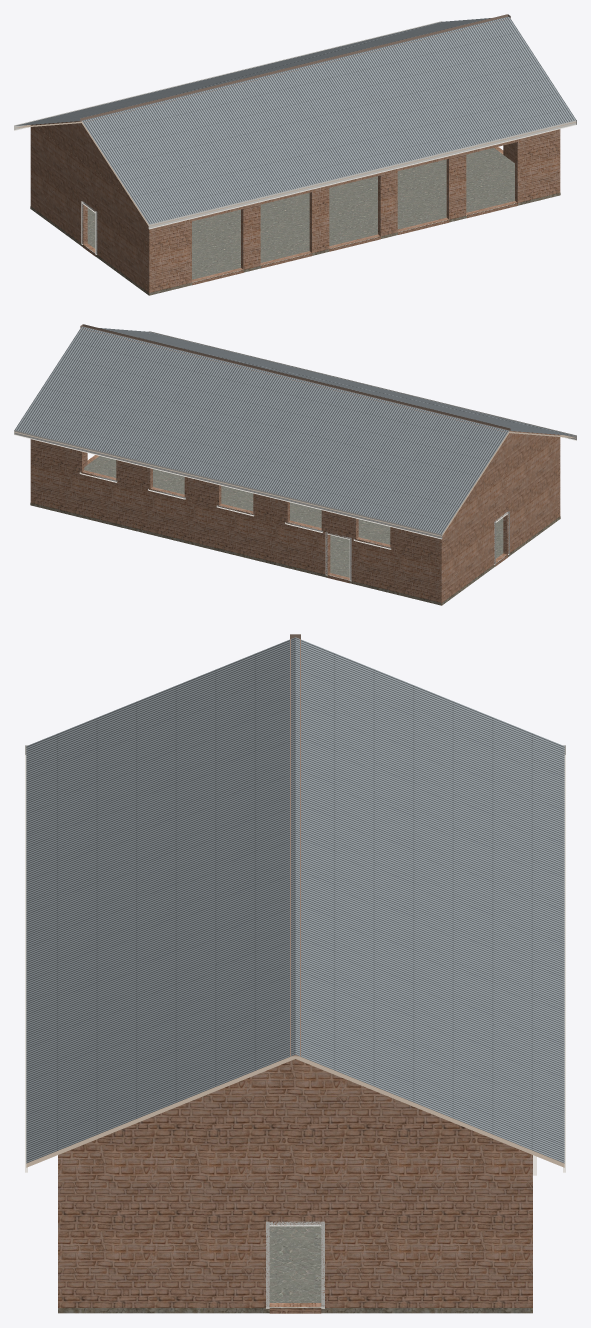
The model's file is fish-market.windows-v1.lod0.glb.
3 renders of one model, top to bottom at view 1: azimuth 30°, elevation 25°; view 2: azimuth 150°, elevation 25°; view 3: azimuth 270°, elevation 25°, orthographic. The views are drawn at different scales.
Visible parts, largest first — view 1: fish-market; view 2: fish-market; view 3: fish-market.
Part boxes in pixels (x1=…): fish-market: x1=14, y1=14, x2=576, y2=295; fish-market: x1=14, y1=324, x2=576, y2=605; fish-market: x1=25, y1=634, x2=565, y2=1313.
Size of the model in its own units: 24.96 by 7.52 by 13.68.
Materials: 5 (4 with a texture image).
